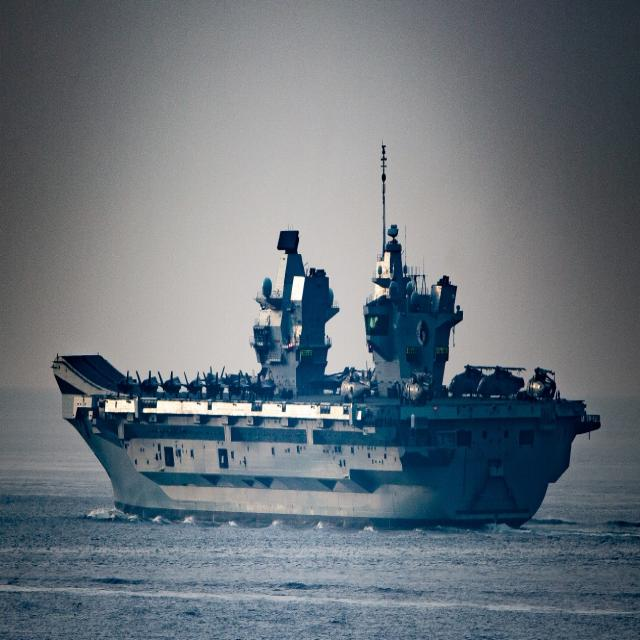navalvessels: (52, 143, 604, 544)
